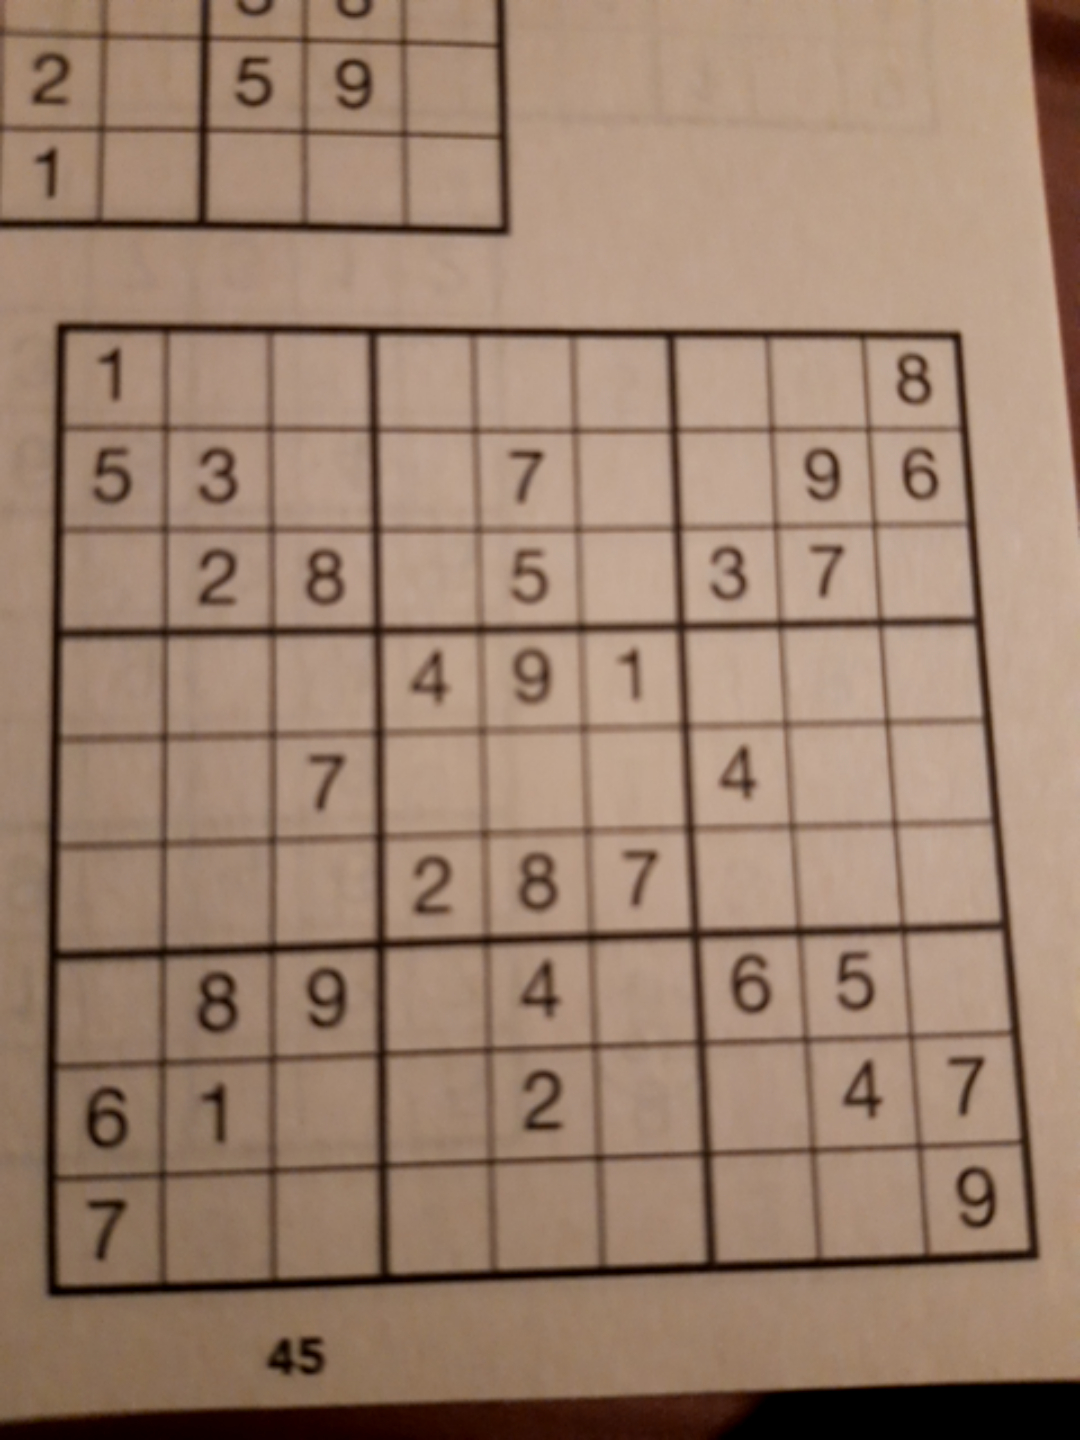sudoku: (43, 320, 1040, 1282)
